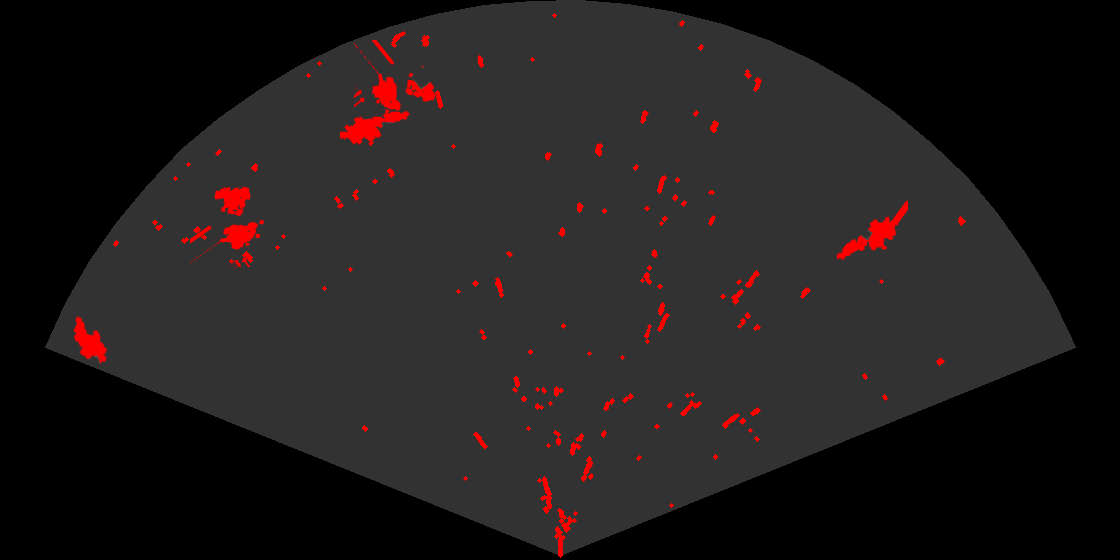AUV: (72, 314, 109, 366)
cage: (354, 40, 437, 119), (190, 185, 266, 267)
frogman: (835, 201, 908, 261), (340, 110, 410, 148)
